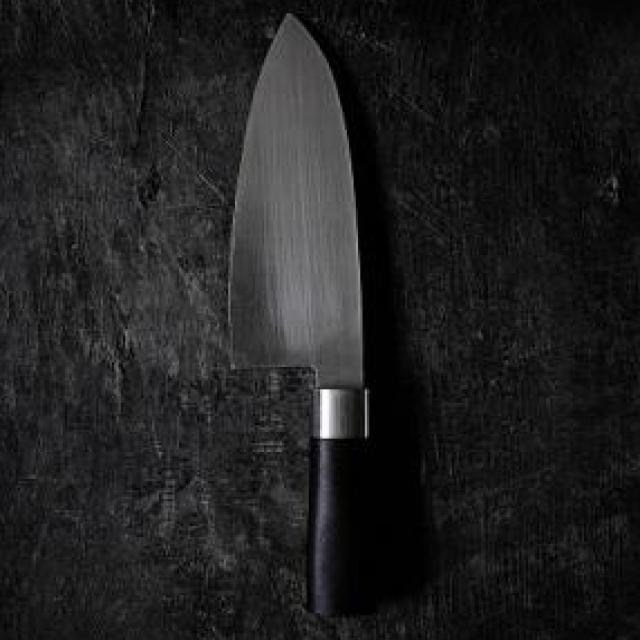knife: (215, 12, 387, 616)
